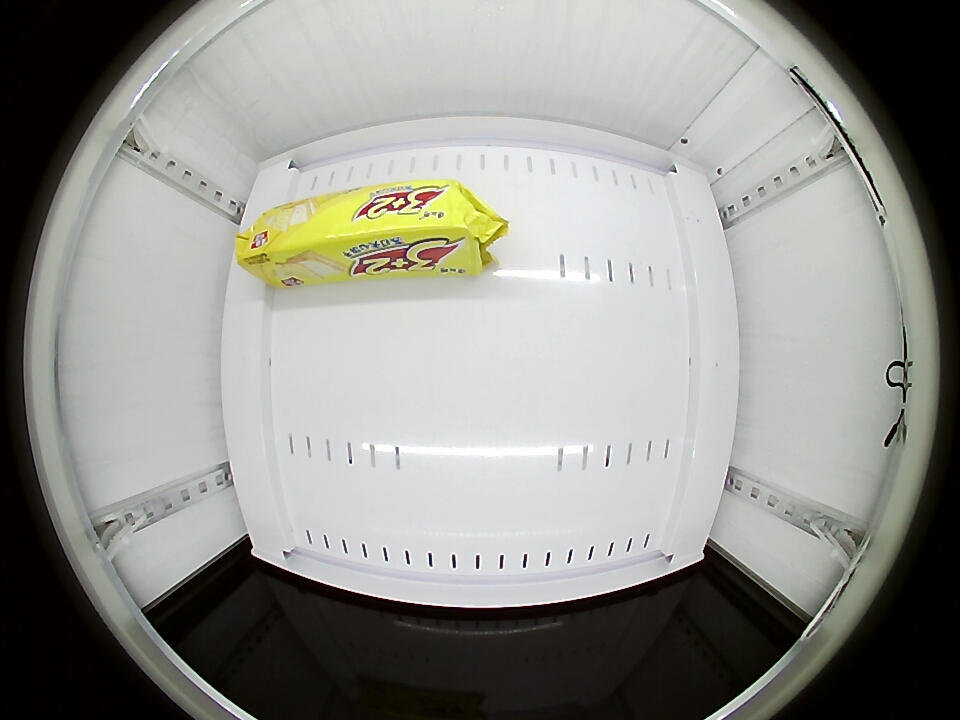3+2-2: (240, 177, 483, 279)
